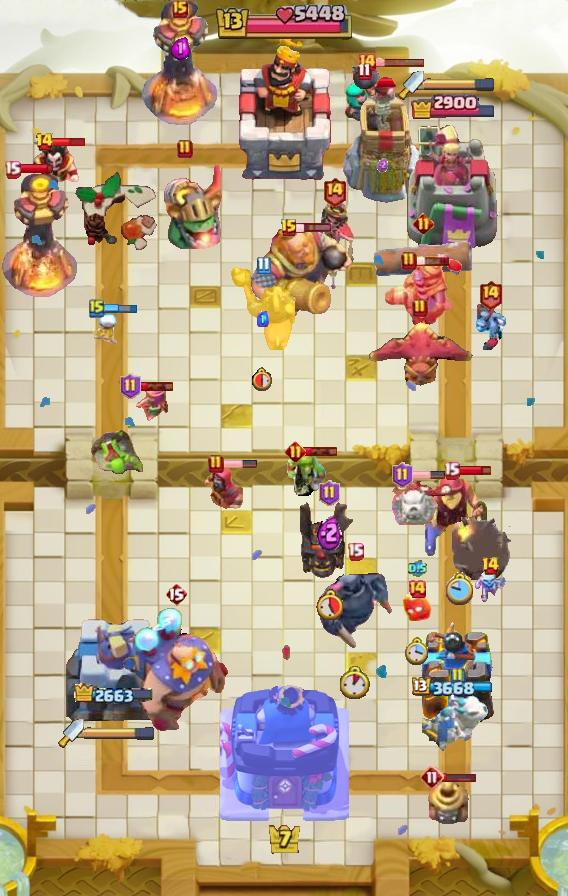archer-evolution: (300, 499, 358, 581)
baby-dragon: (453, 517, 512, 579)
bar: (406, 122, 500, 256), (66, 611, 162, 731)
bar-level: (89, 427, 147, 475)
bomber: (401, 590, 433, 624)
bomber-evolution: (310, 202, 358, 294)
bowler: (203, 465, 247, 515)
cannon: (124, 382, 170, 426)
clock: (213, 5, 355, 43)
electro-dragon: (141, 0, 219, 128), (0, 171, 78, 297)
electro-spirit: (318, 513, 343, 551), (170, 36, 189, 59), (408, 560, 427, 577), (257, 311, 269, 327), (376, 158, 387, 172)
elixir: (340, 666, 370, 699), (446, 572, 474, 604), (317, 588, 343, 619), (405, 635, 430, 664), (252, 367, 274, 391)
emote: (374, 56, 426, 67), (456, 464, 492, 477), (296, 222, 333, 234), (18, 163, 54, 175), (414, 255, 450, 267), (52, 136, 87, 148), (103, 302, 138, 314), (138, 381, 174, 392), (302, 446, 337, 457), (442, 773, 477, 784), (222, 459, 258, 469), (410, 470, 446, 480)
fireball: (421, 468, 499, 560)
freeze: (231, 266, 295, 352)
giant-skeleton: (245, 226, 353, 322)
goblin-drill: (424, 779, 470, 825)
golemite: (317, 554, 393, 650)
heal-spirit: (473, 570, 507, 604), (94, 313, 122, 345)
king-tower: (219, 678, 349, 826), (230, 43, 338, 181)
king-tower-bar: (424, 77, 496, 91), (84, 726, 156, 740)
little-prince: (123, 607, 229, 733)
lumberjack: (30, 143, 80, 195)
mini-pekka: (422, 681, 492, 753), (376, 476, 456, 526)
minion: (372, 236, 474, 280)
mother-witch: (366, 320, 474, 392)
night-witch: (144, 159, 226, 253)
queen-tower: (411, 619, 495, 731)
ram-rider: (382, 257, 462, 329)
royal-delivery: (468, 304, 512, 350)
selected: (411, 93, 498, 120), (73, 683, 154, 707), (413, 677, 496, 699)
text: (321, 177, 346, 208), (477, 279, 502, 309), (420, 765, 444, 789), (119, 373, 140, 399), (392, 462, 413, 488), (320, 480, 341, 506), (165, 582, 187, 606), (414, 213, 435, 235), (286, 441, 307, 462), (357, 52, 377, 72), (480, 556, 500, 576), (407, 579, 427, 599), (35, 132, 54, 152), (280, 218, 298, 238), (444, 461, 461, 480), (348, 542, 365, 561), (177, 139, 193, 159), (401, 251, 417, 271), (412, 298, 428, 318), (89, 298, 105, 318), (208, 454, 224, 474), (449, 667, 465, 687), (4, 161, 21, 179), (172, 0, 188, 18), (257, 257, 272, 275), (357, 63, 371, 81)
witch: (342, 79, 386, 127)
zap: (285, 449, 329, 499)
zappy: (338, 63, 426, 207)
